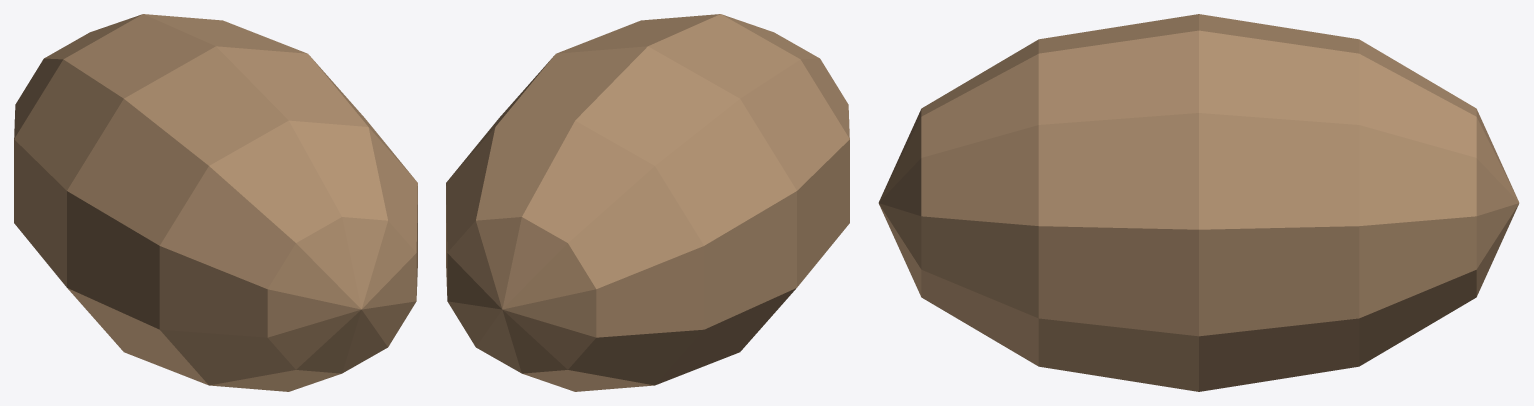
Rendered from fruit18.fbx.
The picture shows the model from 3 angles, left to right: view 1: azimuth 30°, elevation 25°; view 2: azimuth 150°, elevation 25°; view 3: azimuth 270°, elevation 25°; orthographic projection. The views are drawn at different scales.
Visible parts, largest first — view 1: Sphere.003; view 2: Sphere.003; view 3: Sphere.003.
Part boxes in pixels (left/top/right/bottom): Sphere.003: left=14, top=14, right=417, bottom=391; Sphere.003: left=446, top=14, right=849, bottom=391; Sphere.003: left=878, top=14, right=1519, bottom=391.
Bounding box in the file's own units: 0.0661 × 0.0664 × 0.1119.
